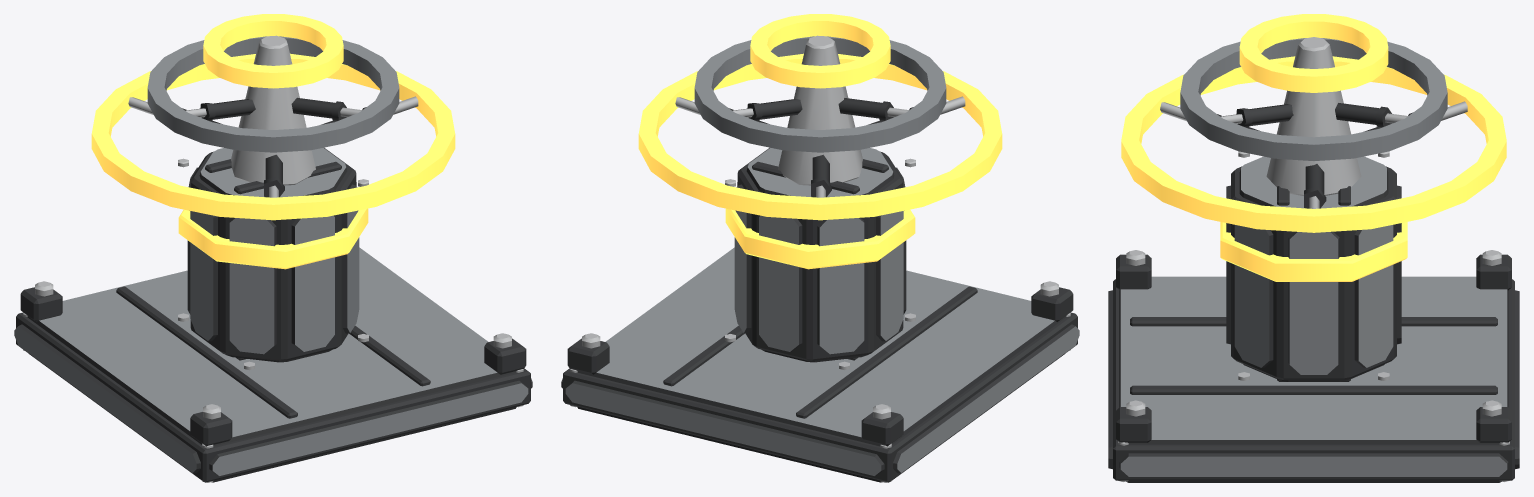
The model's file is R4X_SupportTurretDeployer.fbx.
3 renders of one model, left to right at view 1: azimuth 30°, elevation 25°; view 2: azimuth 150°, elevation 25°; view 3: azimuth 270°, elevation 25°, orthographic. The views are drawn at different scales.
Parts seen in each view (by area): view 1: R4X_SupportTurretDeployer_Pod, R4X_SupportTurretDeployer_Body; view 2: R4X_SupportTurretDeployer_Pod, R4X_SupportTurretDeployer_Body; view 3: R4X_SupportTurretDeployer_Pod, R4X_SupportTurretDeployer_Body.
Part boxes in pixels (left/top/right/bottom): R4X_SupportTurretDeployer_Pod: left=91, top=14, right=455, bottom=370; R4X_SupportTurretDeployer_Body: left=14, top=247, right=532, bottom=482; R4X_SupportTurretDeployer_Pod: left=638, top=14, right=1002, bottom=370; R4X_SupportTurretDeployer_Body: left=561, top=247, right=1079, bottom=482; R4X_SupportTurretDeployer_Pod: left=1121, top=14, right=1506, bottom=381; R4X_SupportTurretDeployer_Body: left=1108, top=250, right=1519, bottom=482.
Size of the model in its own units: 0.52 by 0.5 by 0.52.
